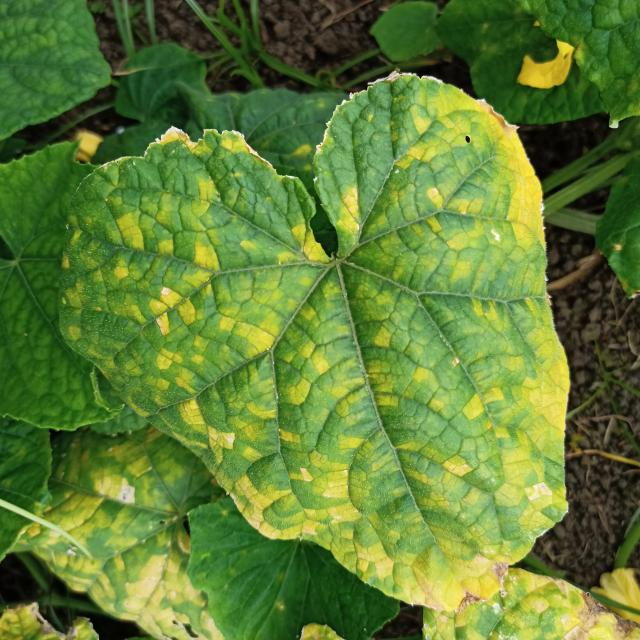disease_cucumber: (74, 78, 562, 600)
